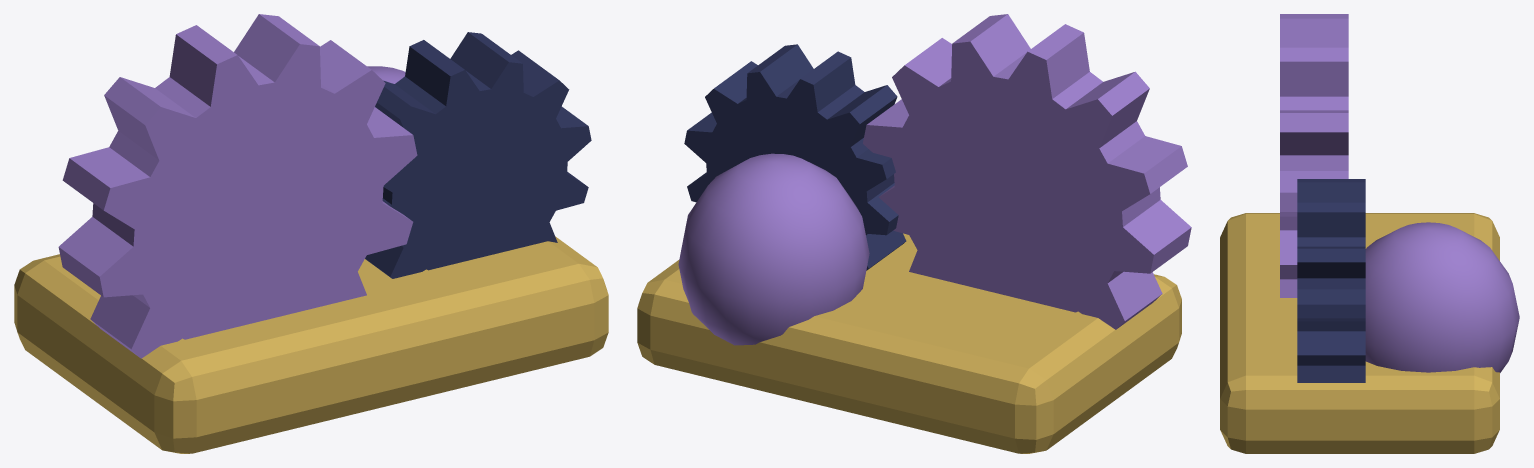
The model's file is ACC_TH_STEAMPUNK_Primary.fbx.
3 renders of one model, left to right at view 1: azimuth 30°, elevation 25°; view 2: azimuth 150°, elevation 25°; view 3: azimuth 270°, elevation 25°, orthographic. The views are drawn at different scales.
Visible parts, largest first — view 1: ACC_TH_STEAMPUNK_Primary; view 2: ACC_TH_STEAMPUNK_Primary; view 3: ACC_TH_STEAMPUNK_Primary.
Boxes of the visible parts, <box> form: ACC_TH_STEAMPUNK_Primary: <box>14,14,608,453</box>; ACC_TH_STEAMPUNK_Primary: <box>637,14,1191,453</box>; ACC_TH_STEAMPUNK_Primary: <box>1220,14,1519,453</box>.
Size of the model in its own units: 84.61 by 58.77 by 52.5.
